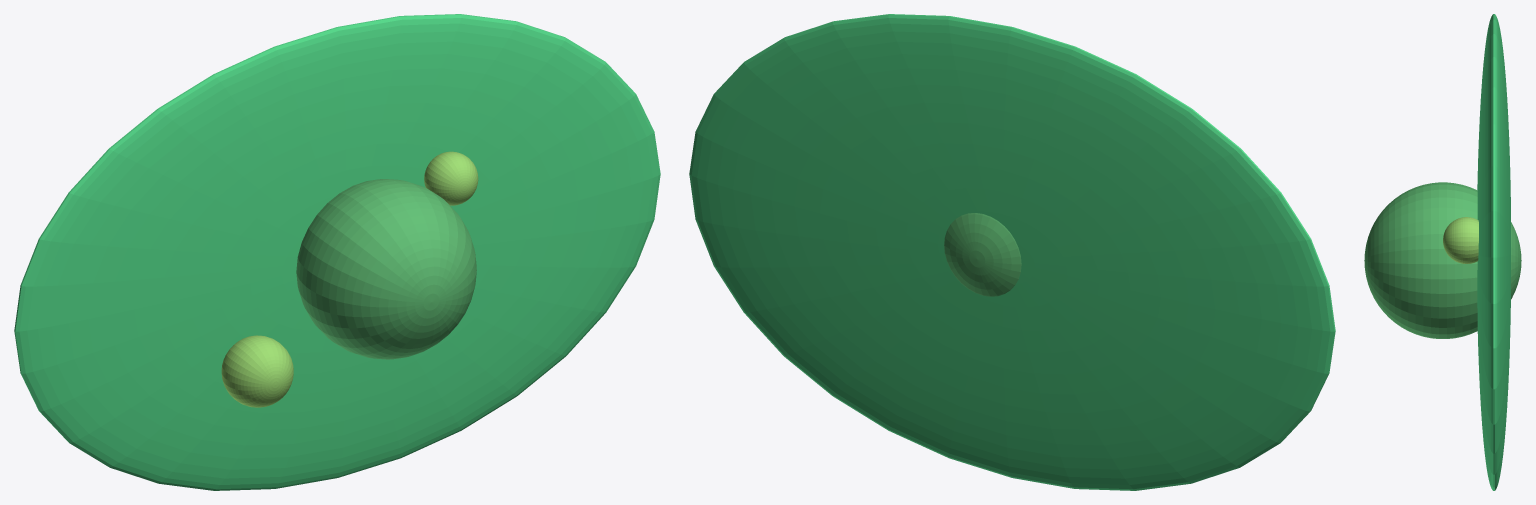
File: obstacle_pepe_swamp_puddle.glb
The picture shows the model from 3 angles, left to right: view 1: azimuth 30°, elevation 25°; view 2: azimuth 150°, elevation 25°; view 3: azimuth 270°, elevation 25°; orthographic projection. The views are drawn at different scales.
Visible parts, largest first — view 1: puddle, pepe_head, bubbles1, bubbles2; view 2: puddle, pepe_head; view 3: pepe_head, puddle, bubbles2.
Boxes of the visible parts, <box> form: puddle: <box>14,14,660,490</box>; pepe_head: <box>296,179,476,359</box>; bubbles1: <box>221,335,293,407</box>; bubbles2: <box>424,151,478,205</box>; puddle: <box>689,14,1335,490</box>; pepe_head: <box>944,213,1021,296</box>; pepe_head: <box>1364,182,1521,338</box>; puddle: <box>1477,14,1510,490</box>; bubbles2: <box>1443,217,1478,263</box>.
Size of the model in its own units: 1.65 by 1.1 by 0.4.
